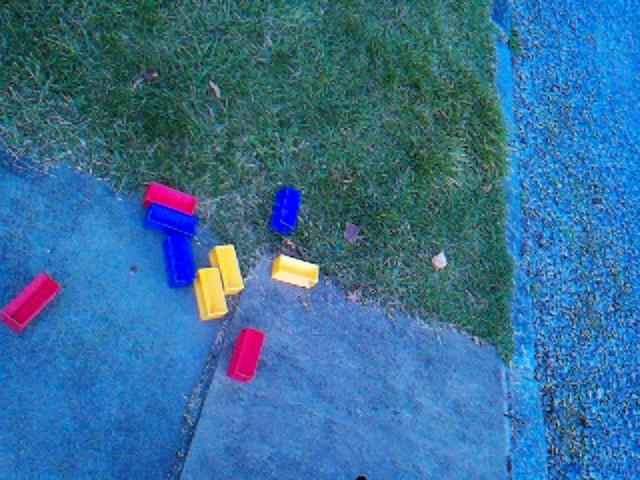blue: (144, 202, 200, 238), (162, 234, 198, 288), (268, 184, 303, 235)
red: (1, 270, 62, 334), (226, 326, 267, 384), (142, 180, 199, 217)
yellow: (194, 266, 229, 322), (270, 253, 321, 290), (209, 243, 245, 295)
